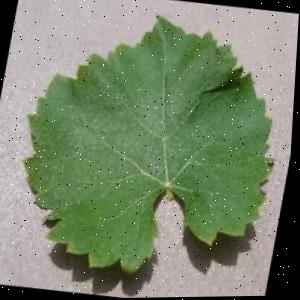Folha: (0, 0, 300, 290)
